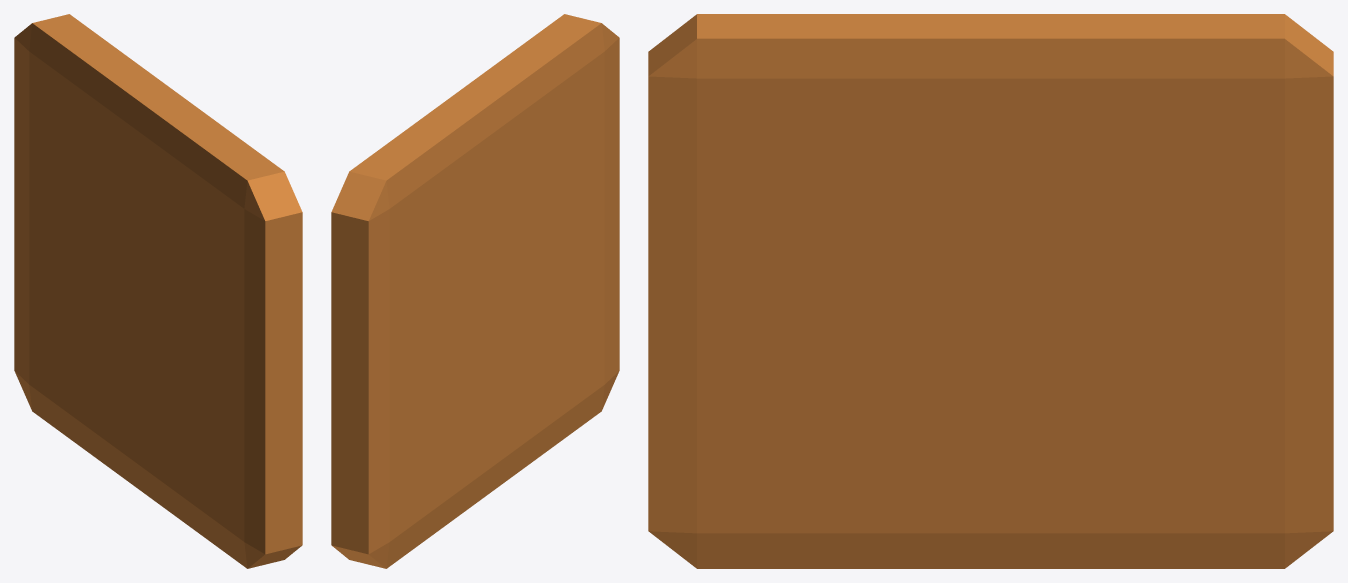
Rendered from signboard_flat.fbx.
3 views of the same model, side by side, from view 1: azimuth 30°, elevation 25°; view 2: azimuth 150°, elevation 25°; view 3: azimuth 270°, elevation 25° (orthographic). The views are drawn at different scales.
Visible parts, largest first — view 1: Cube.001; view 2: Cube.001; view 3: Cube.001.
Part boxes in pixels (x1,y1,x2,y2): Cube.001: (14, 14, 302, 568); Cube.001: (331, 14, 619, 568); Cube.001: (648, 14, 1333, 568).
Bounding box in the file's own units: 5.98 × 51.1 × 59.84.
